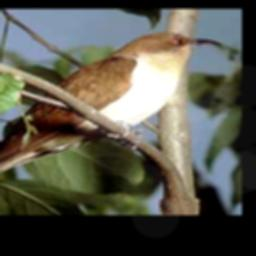Cuckoo: (0, 30, 225, 203)
